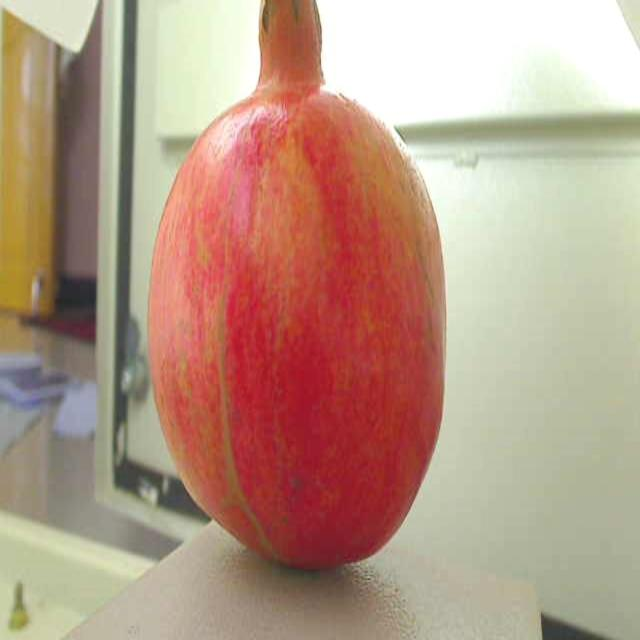pomegranate: (138, 0, 454, 573)
